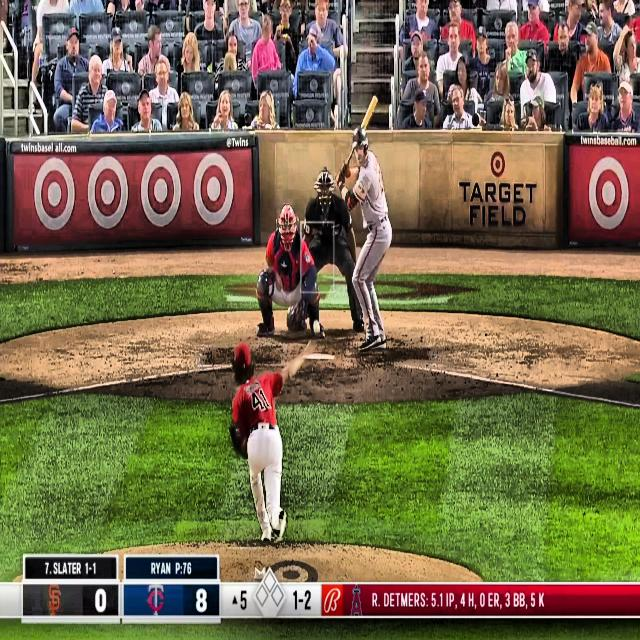baseball: (312, 318, 321, 338)
